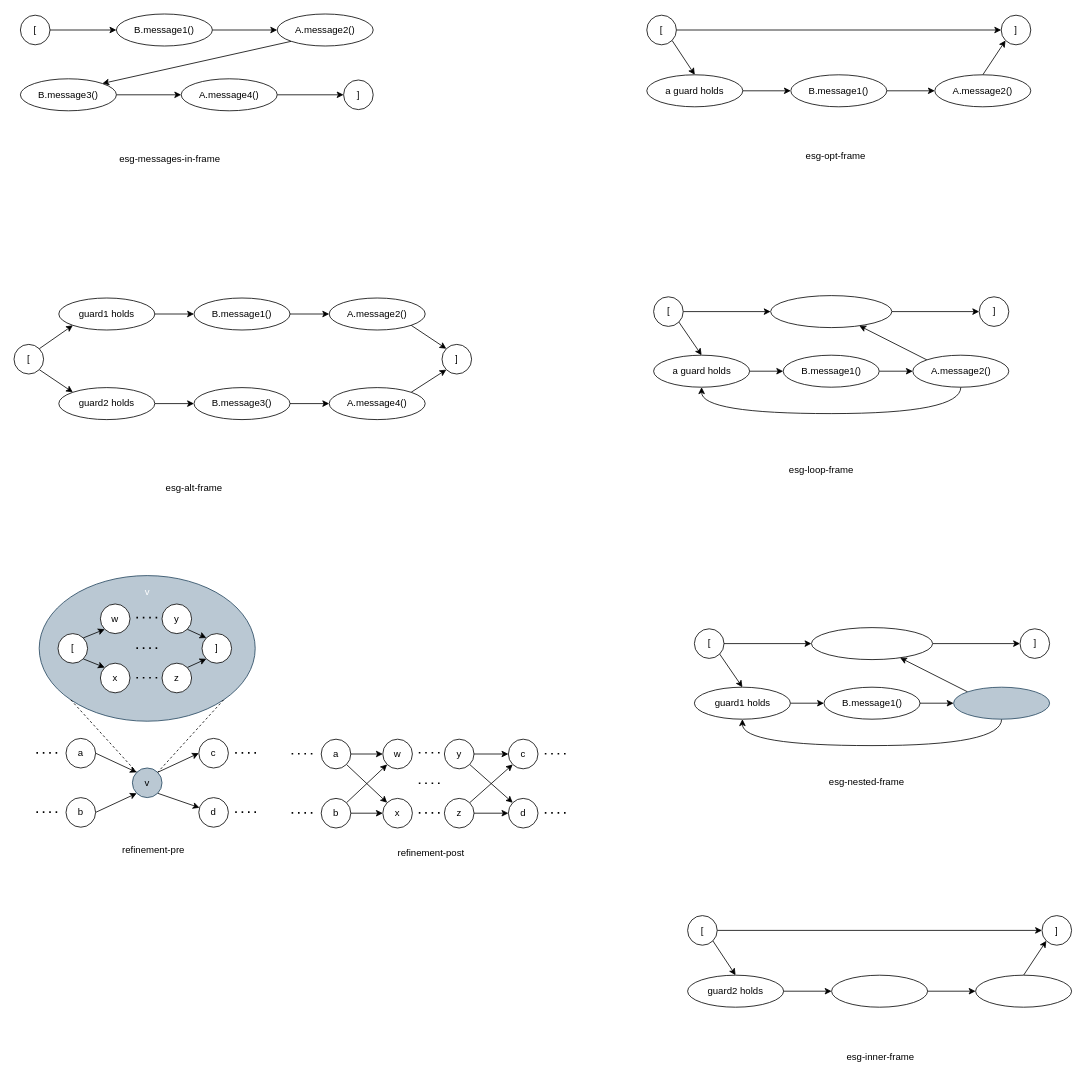
Image size: 1086x1088. Some labels were removed from this diagram. Here are the shapes that lost their labels. From the top down, the centre of each, then its label:
At (831,311): "a guard does not hold".
At (872,643): "guard1 does not hold".
At (1001,702): "optSubESG".
At (879,990): "B.message2()".
At (1023,990): "A.message3()".
